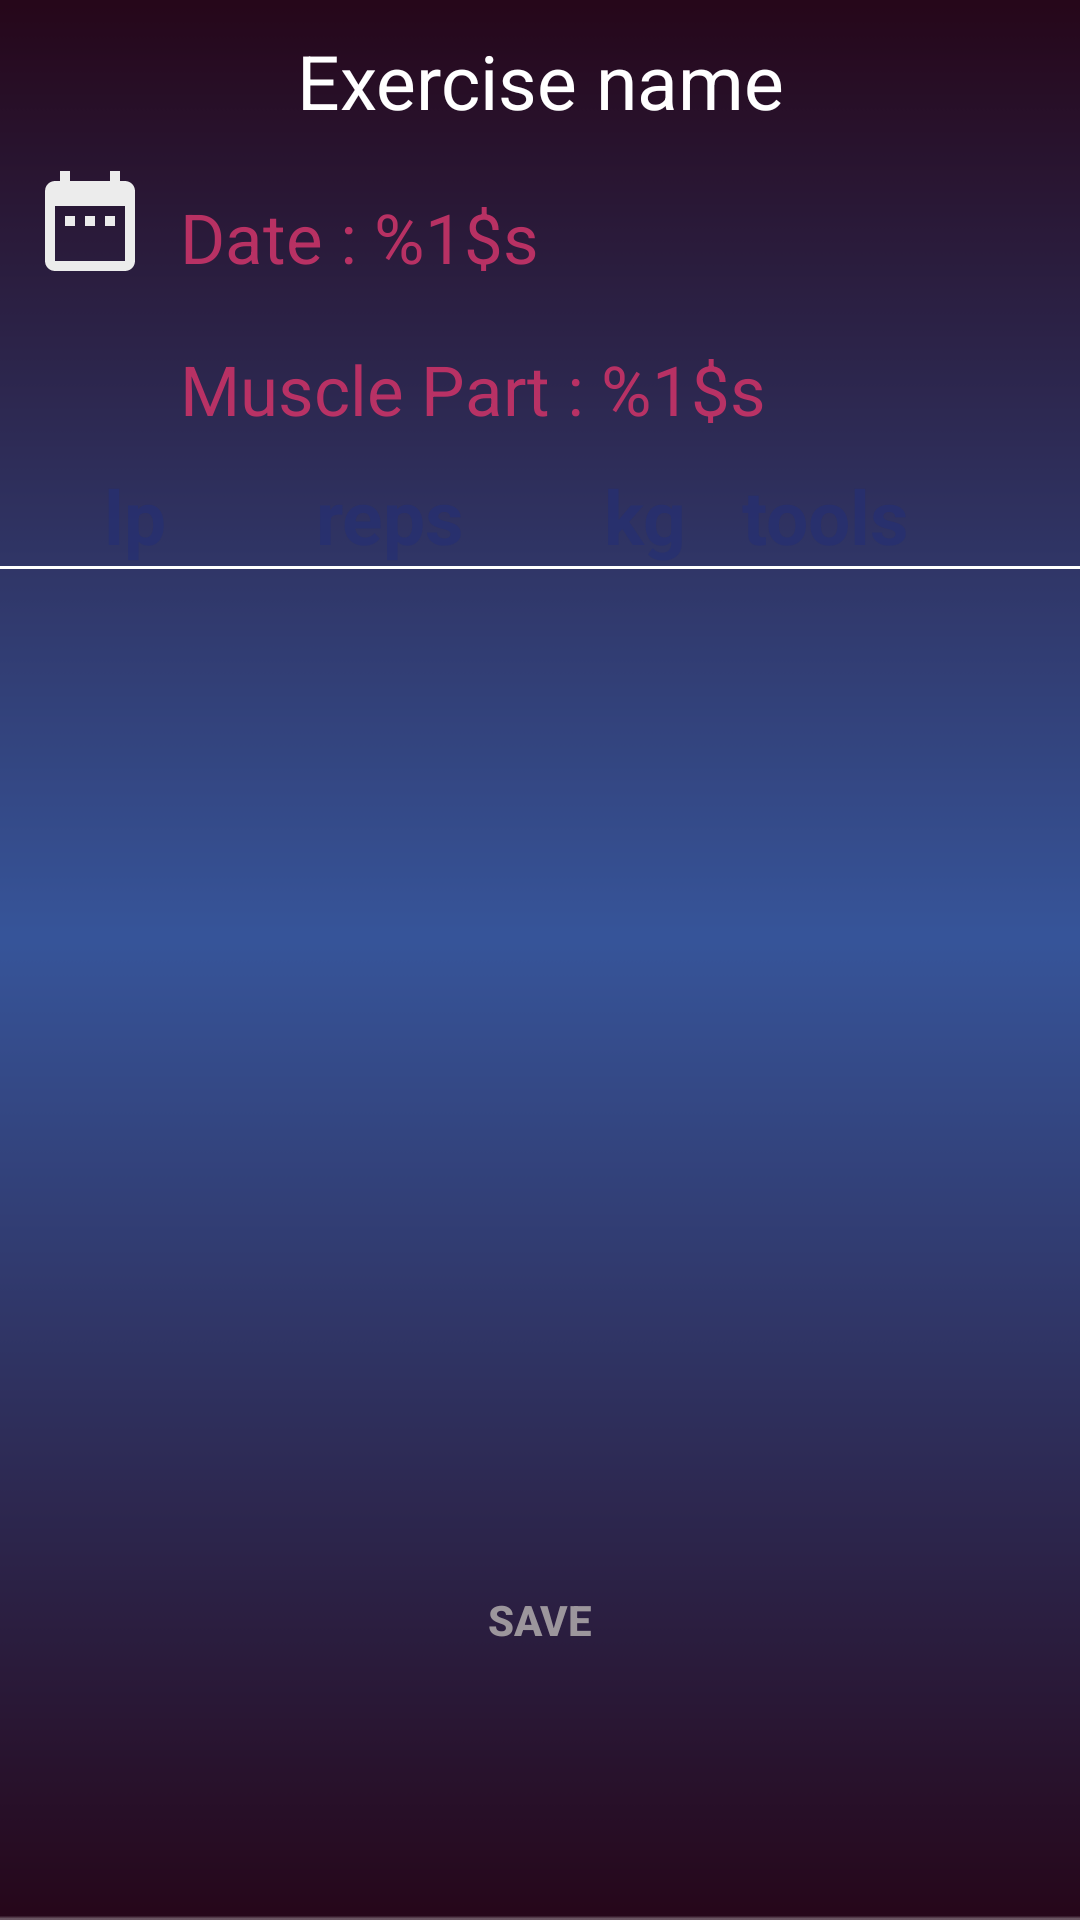

Icon click points for this 1080 × 1920 phone screenshot, format point (x, y):
calendar: point (90, 221)
